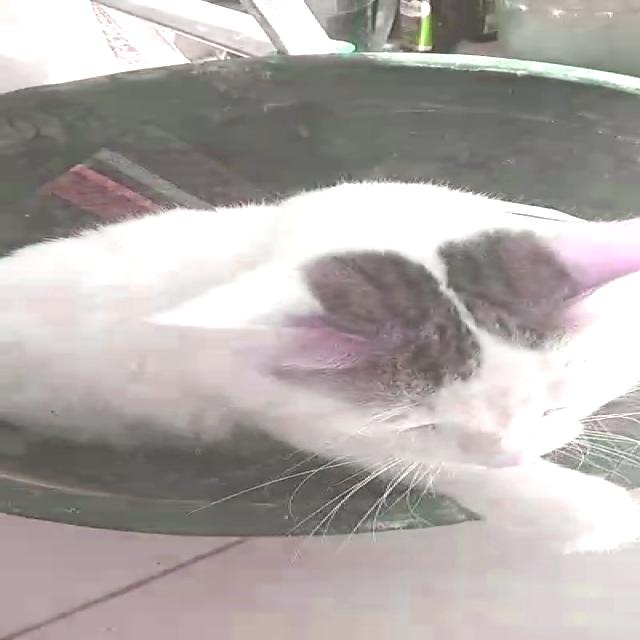Simba: (26, 174, 638, 516)
